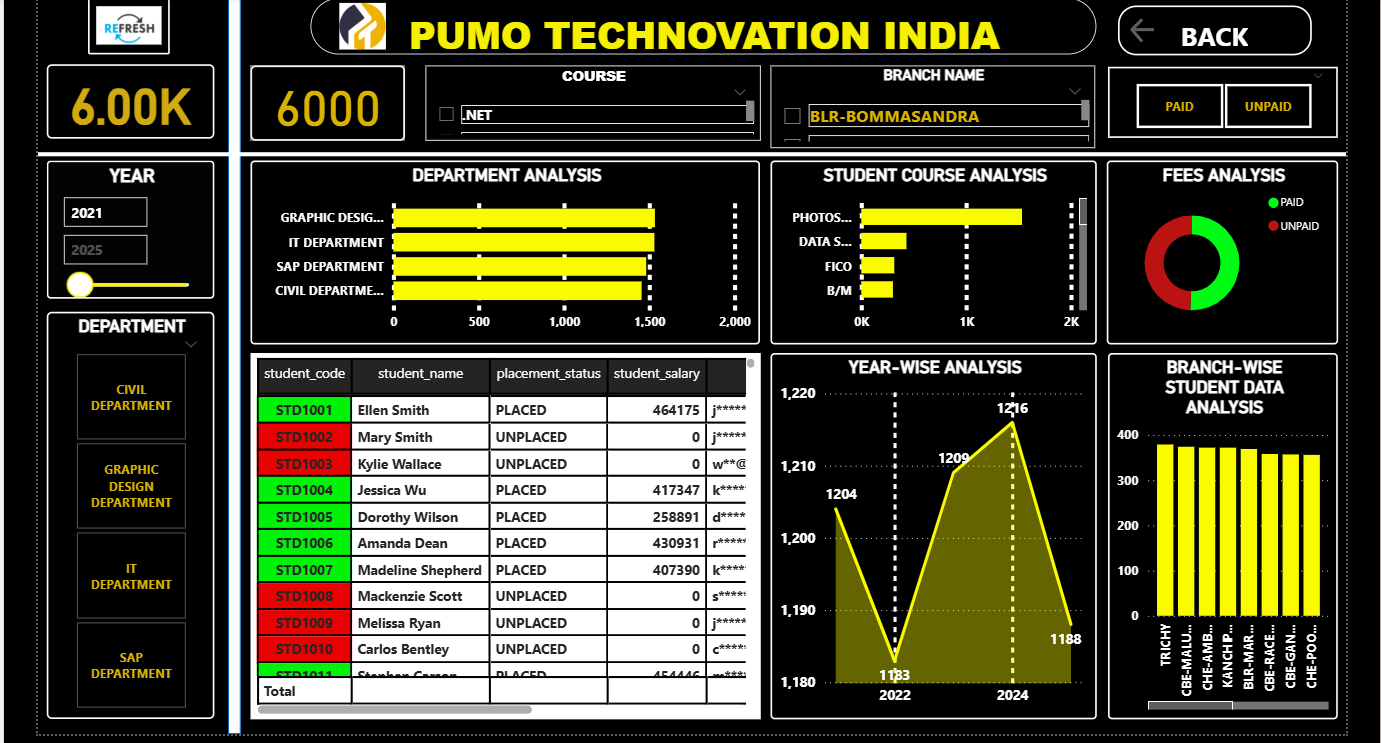

What the dashboard file says about the page in this screenshot:
{"tool":"powerbi","page":{"name":"Page 2","canvas":[1280,720],"ordinal":1},"visuals":[{"type":"textbox","title":"PUMO TECHNOVATION INDIA ","box":[266.2,0,768.8,55],"z":0},{"type":"image","box":[276.2,0,82.5,55],"z":1000},{"type":"card","fields":{"Values":["CountNonNull(pumo_institution_india2 student_details.student_id)"]},"box":[8.8,65,163.8,72.5],"z":2000},{"type":"slicer","title":"YEAR","fields":{"Values":["pumo_institution_india2 student_details.batch_year"]},"box":[8.8,158.8,163.8,135],"z":3000},{"type":"slicer","title":"BRANCH NAME","fields":{"Values":["pumo_institution_india2 student_details.branch_name"]},"box":[716.6,66,317.9,80.7],"z":4000},{"type":"slicer","title":"COURSE","fields":{"Values":["pumo_institution_india2 student_details.student_course"]},"box":[379.1,66,327.7,73.4],"z":5000},{"type":"slicer","title":"DEPARTMENT","fields":{"Values":["pumo_institution_india2 student_details.student_department"]},"box":[8.8,307.5,163.8,398.8],"z":6000},{"type":"card","fields":{"Values":["CountNonNull(pumo_institution_india2 student_details.student_id)"]},"box":[207.5,66.2,151.2,73.8],"z":7000},{"type":"slicer","title":"FEES STATUS","fields":{"Values":["pumo_institution_india2 student_details.fees_status"]},"box":[1046.7,67.3,225,69.7],"z":8000},{"type":"tableEx","fields":{"Values":["pumo_institution_india2 student_details.student_code","pumo_institution_india2 student_details.student_name","pumo_institution_india2 student_details.placement_status","pumo_institution_india2 student_details.student_salary","pumo_institution_india2 student_details.student_email_blur","pumo_institution_india2 student_details.student_mobile_number_blur"]},"box":[207.9,347.3,498.9,358.3],"z":9000},{"type":"donutChart","title":"FEES ANALYSIS","fields":{"Category":["pumo_institution_india2 student_details.fees_status"],"Y":["CountNonNull(pumo_institution_india2 student_details.student_id)"]},"box":[1045.5,159,226.2,179.8],"z":10000},{"type":"clusteredBarChart","title":"DEPARTMENT ANALYSIS","fields":{"Y":["CountNonNull(pumo_institution_india2 student_details.student_id)"],"Category":["pumo_institution_india2 student_details.student_department"]},"box":[207.5,158.8,498.8,180],"z":11000},{"type":"barChart","title":"STUDENT COURSE ANALYSIS","fields":{"Category":["pumo_institution_india2 student_details.student_course"],"Y":["CountNonNull(pumo_institution_india2 student_details.student_id)"]},"box":[716.6,159,319.2,179.8],"z":12000},{"type":"clusteredColumnChart","title":"BRANCH-WISE STUDENT DATA ANALYSIS","fields":{"Category":["pumo_institution_india2 student_details.branch_name"],"Y":["CountNonNull(pumo_institution_india2 student_details.student_id)"]},"box":[1046.7,347.3,225,358.3],"z":13000},{"type":"lineChart","title":"YEAR-WISE ANALYSIS","fields":{"Category":["pumo_institution_india2 student_details.batch_year"],"Y":["CountNonNull(pumo_institution_india2 student_details.student_id)"]},"box":[716.6,347.3,319.2,358.3],"z":14000},{"type":"actionButton","box":[1056.7,6.8,189.7,48.8],"z":15000},{"type":"image","box":[48.8,0,80,55],"z":16000},{"type":"shape","box":[186.2,0,12.5,720],"z":17000},{"type":"shape","box":[0,146.7,1280.3,12.2],"z":18001}]}

Visuals, with their boxes in screenshot pixels (x1, y1, x2, y2):
"PUMO TECHNOVATION INDIA " textbox: Rect(307, 0, 1091, 52)
image: Rect(318, 0, 402, 52)
card - CountNonNull(pumo_institution_india2 student_details.student_id): Rect(45, 63, 212, 137)
"YEAR" slicer: Rect(45, 158, 212, 296)
"BRANCH NAME" slicer: Rect(767, 64, 1091, 146)
"COURSE" slicer: Rect(423, 64, 757, 139)
"DEPARTMENT" slicer: Rect(45, 310, 212, 717)
card - CountNonNull(pumo_institution_india2 student_details.student_id): Rect(248, 64, 402, 139)
"FEES STATUS" slicer: Rect(1103, 65, 1333, 136)
tableEx - pumo_institution_india2 student_details.student_code x pumo_institution_india2 student_details.student_name: Rect(248, 351, 757, 716)
"FEES ANALYSIS" donutChart: Rect(1102, 159, 1333, 342)
"DEPARTMENT ANALYSIS" clusteredBarChart: Rect(248, 158, 756, 342)
"STUDENT COURSE ANALYSIS" barChart: Rect(767, 159, 1092, 342)
"BRANCH-WISE STUDENT DATA ANALYSIS" clusteredColumnChart: Rect(1103, 351, 1333, 716)
"YEAR-WISE ANALYSIS" lineChart: Rect(767, 351, 1092, 716)
actionButton: Rect(1113, 3, 1307, 53)
image: Rect(86, 0, 167, 52)
shape: Rect(226, 0, 239, 731)
shape: Rect(36, 146, 1341, 158)
